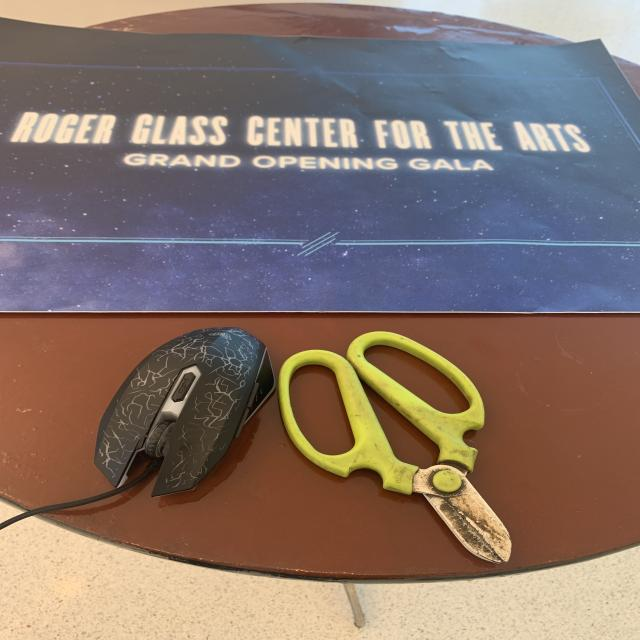Mouse: (72, 320, 307, 512)
